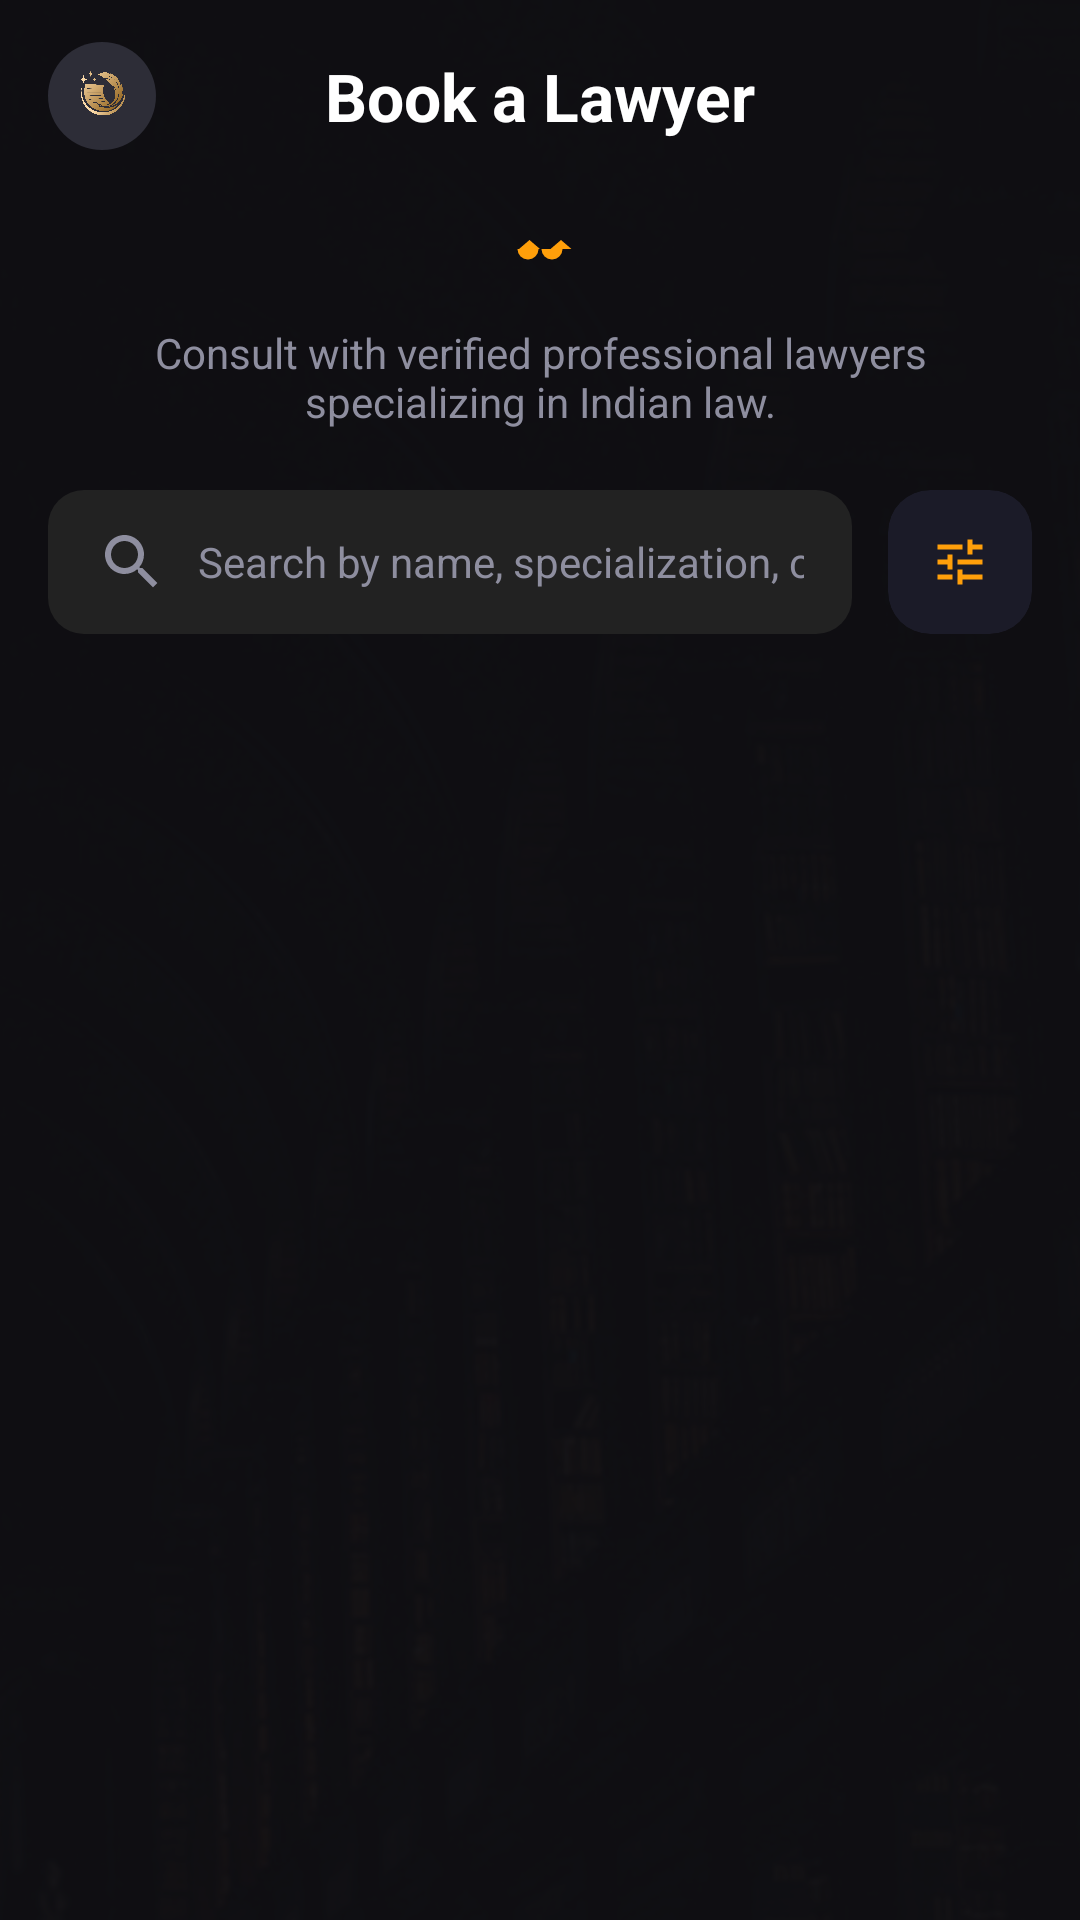

Icons on this 1080×1920 Android screen, each with its box as (x1, y1, x2, y2):
filter: (937, 539, 983, 585)
